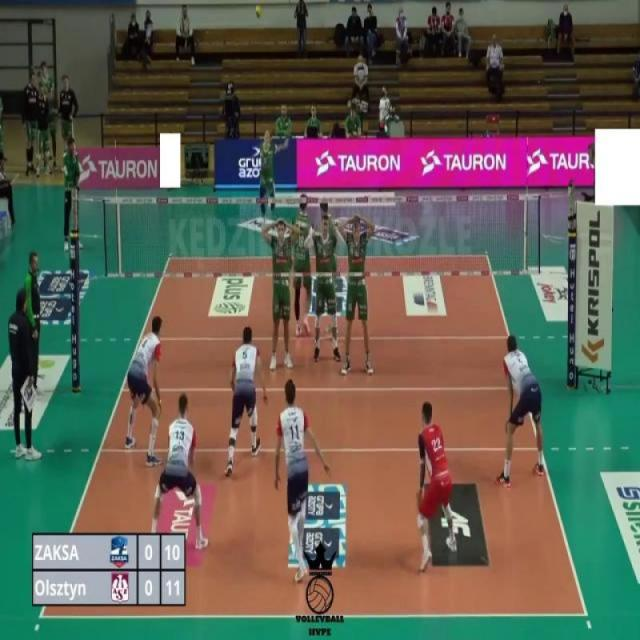volleyball: (255, 4, 263, 19)
